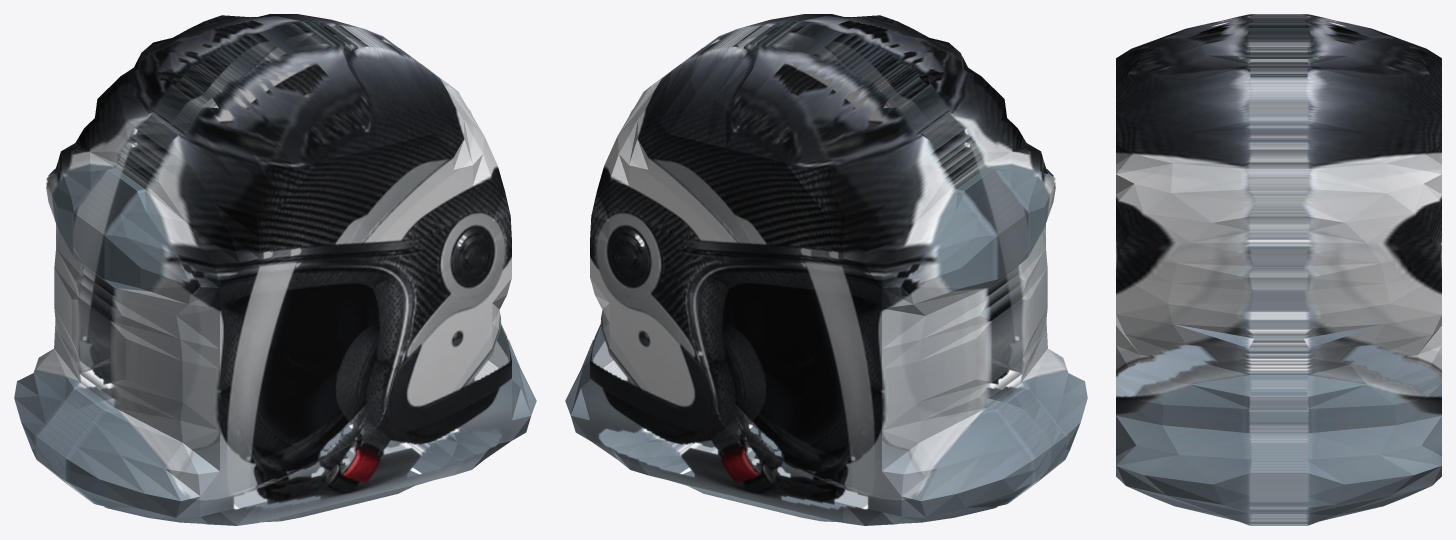
Rendered from held-horizon-open-face-helmet-072.glb.
3 views of the same model, side by side, from view 1: azimuth 30°, elevation 25°; view 2: azimuth 150°, elevation 25°; view 3: azimuth 270°, elevation 25° (orthographic).
Parts seen in each view (by area): view 1: world; view 2: world; view 3: world.
Part boxes in pixels (x1,y1,x2,y2): world: (14,14,536,525); world: (565,14,1087,525); world: (1116,14,1441,525).
Bounding box in the file's own units: 1 × 0.9532 × 0.64.
Materials: 1 (1 with a texture image).
